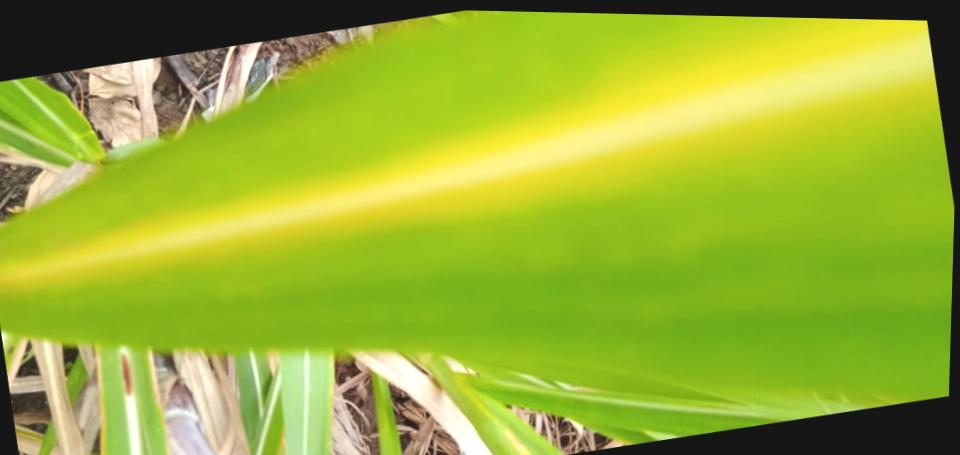Yellow: (0, 20, 938, 286)
